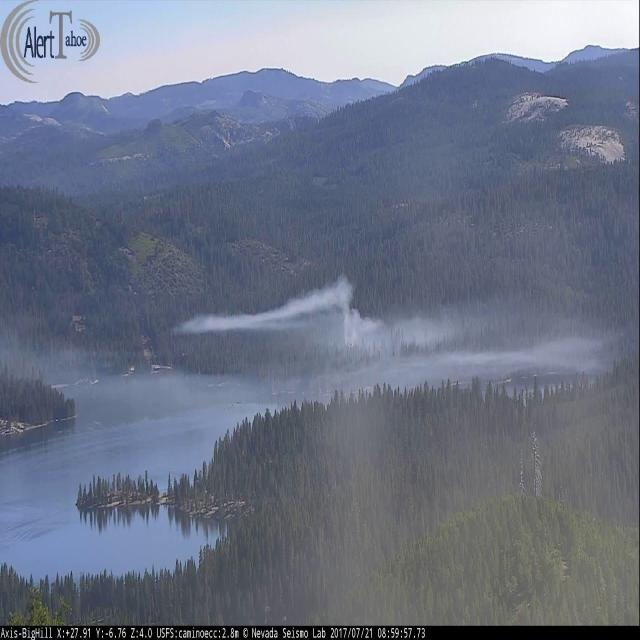smoke: (4, 268, 640, 410)
